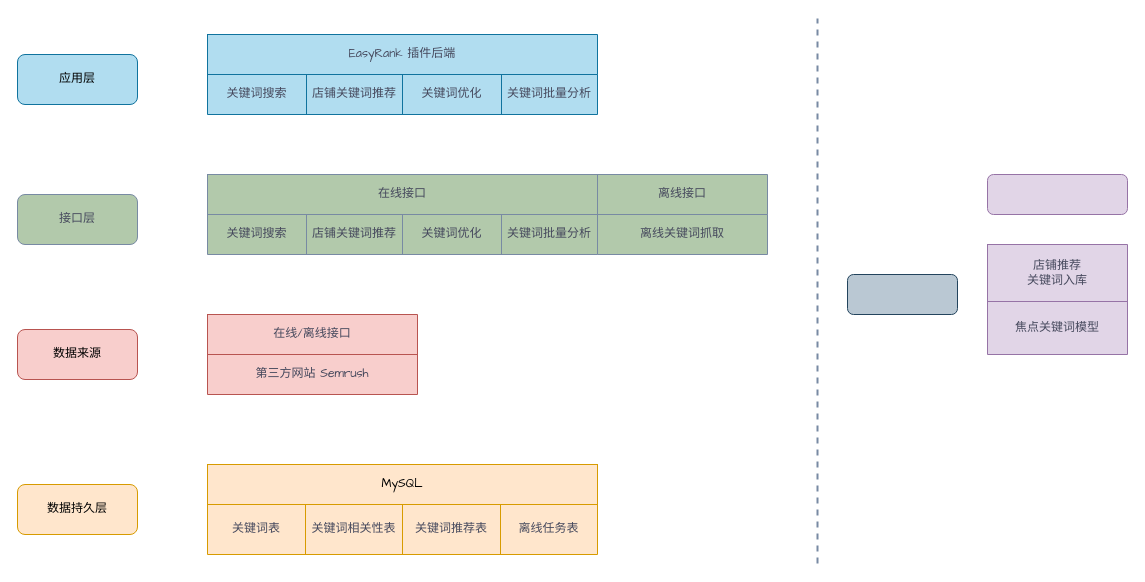
Image size: 1145x582. Some labels were removed from this diagram. Each missing label, with the centre of its shape:
"算法侧" belongs at point 1057,194.
"算法服务" belongs at point 902,294.
